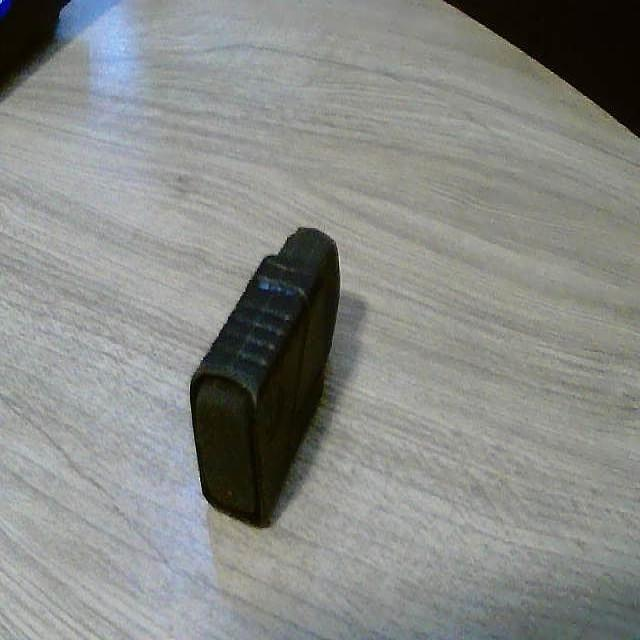borracha: (175, 207, 348, 535)
